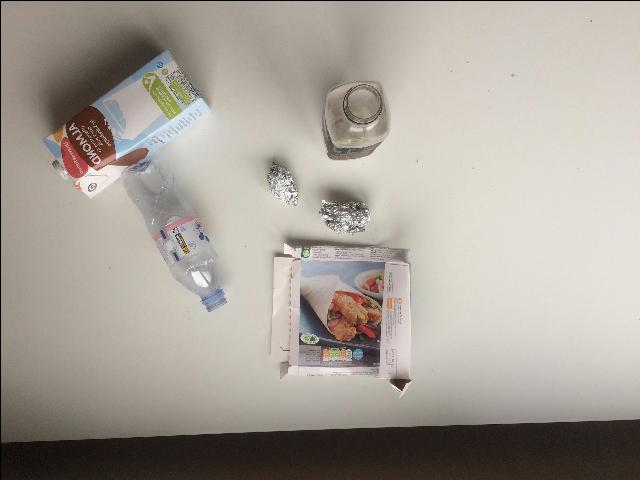cardboard paper: (43, 49, 209, 196), (270, 243, 411, 396)
plastic: (121, 154, 226, 310), (322, 80, 388, 159)
